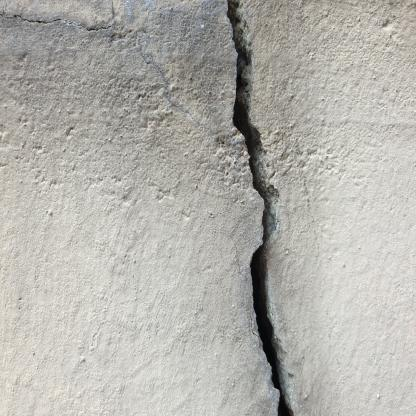crack: (226, 1, 295, 415)
